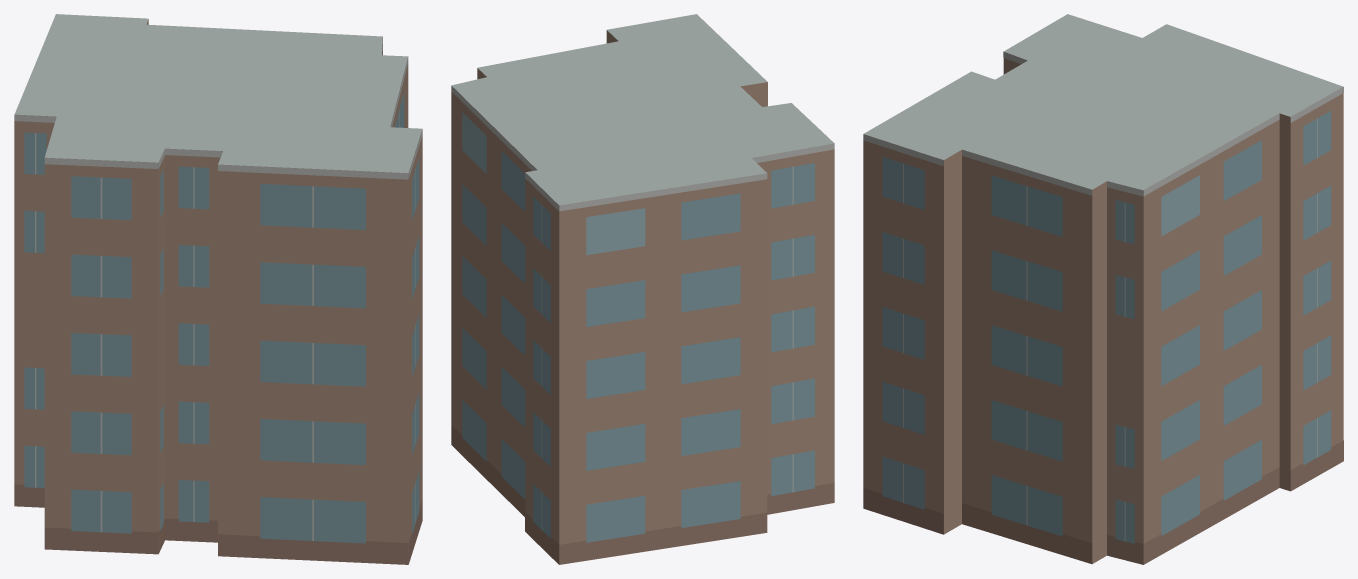
The model's file is survey-upis-33010160.glb.
3 views of the same model, side by side, from view 1: azimuth 30°, elevation 25°; view 2: azimuth 150°, elevation 25°; view 3: azimuth 270°, elevation 25° (orthographic). The views are drawn at different scales.
Parts seen in each view (by area): view 1: survey-upis-33010160.tmp; view 2: survey-upis-33010160.tmp; view 3: survey-upis-33010160.tmp.
Boxes of the visible parts, x1,y1,x2,y2 form: survey-upis-33010160.tmp: (14,14,422,564); survey-upis-33010160.tmp: (451,14,834,564); survey-upis-33010160.tmp: (863,14,1343,564).
Size of the model in its own units: 14.9 by 14.74 by 17.15.
